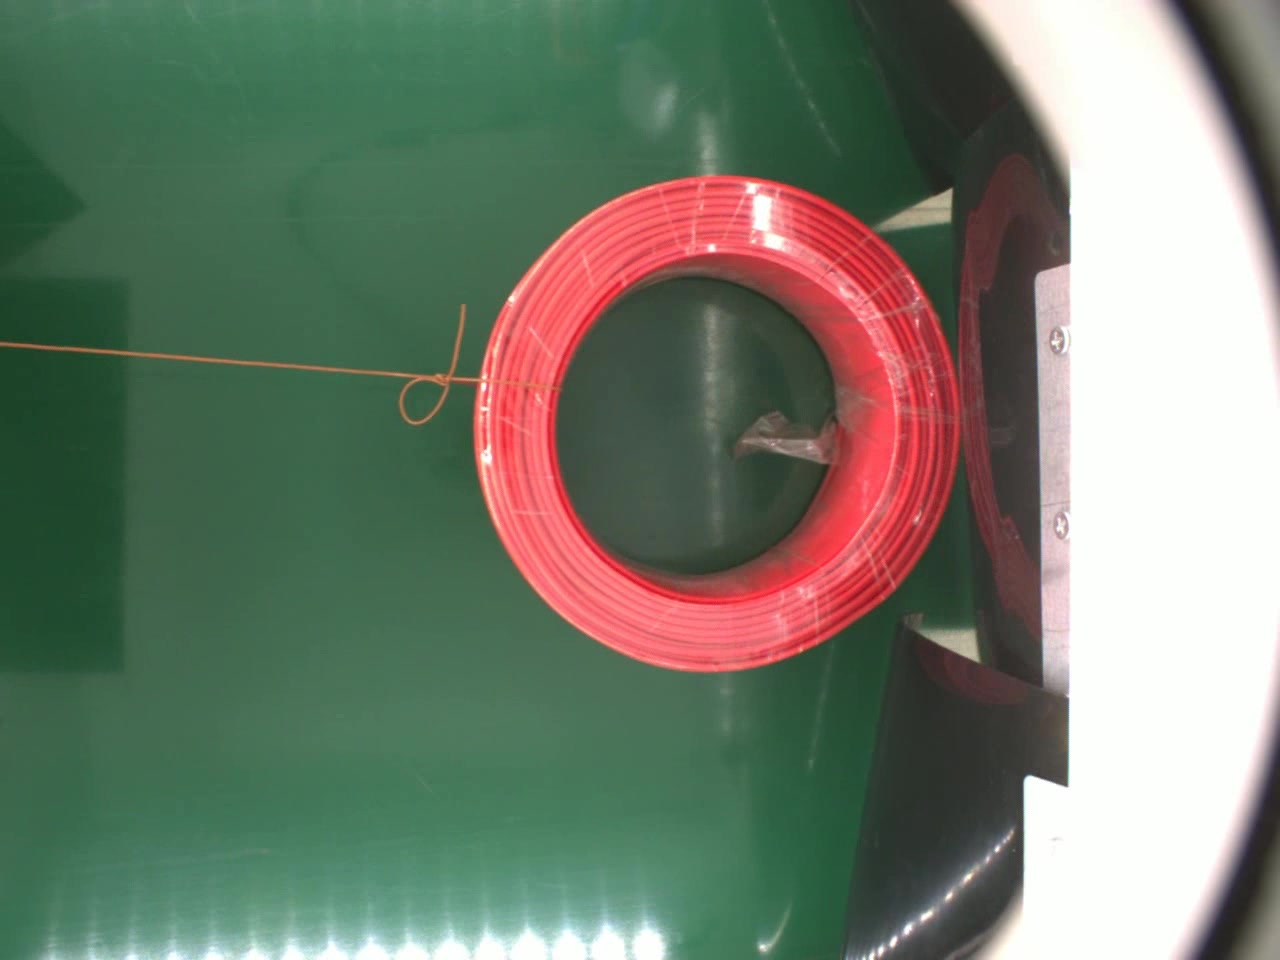red: (466, 166, 971, 681)
